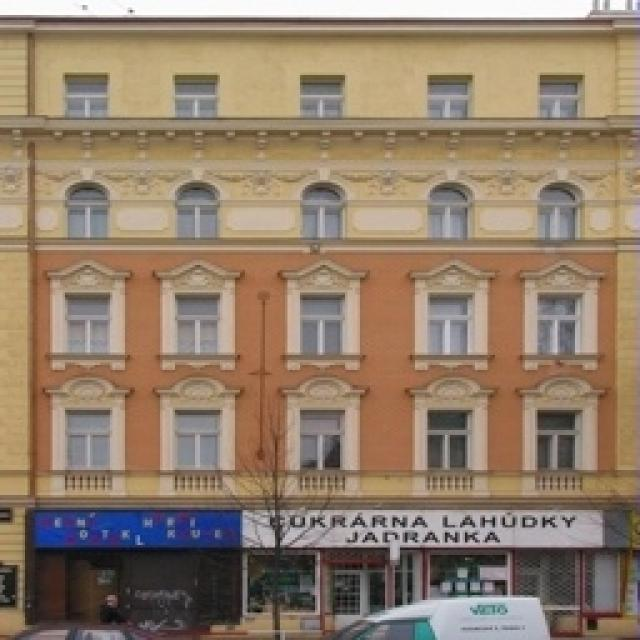building: (2, 12, 640, 640)
